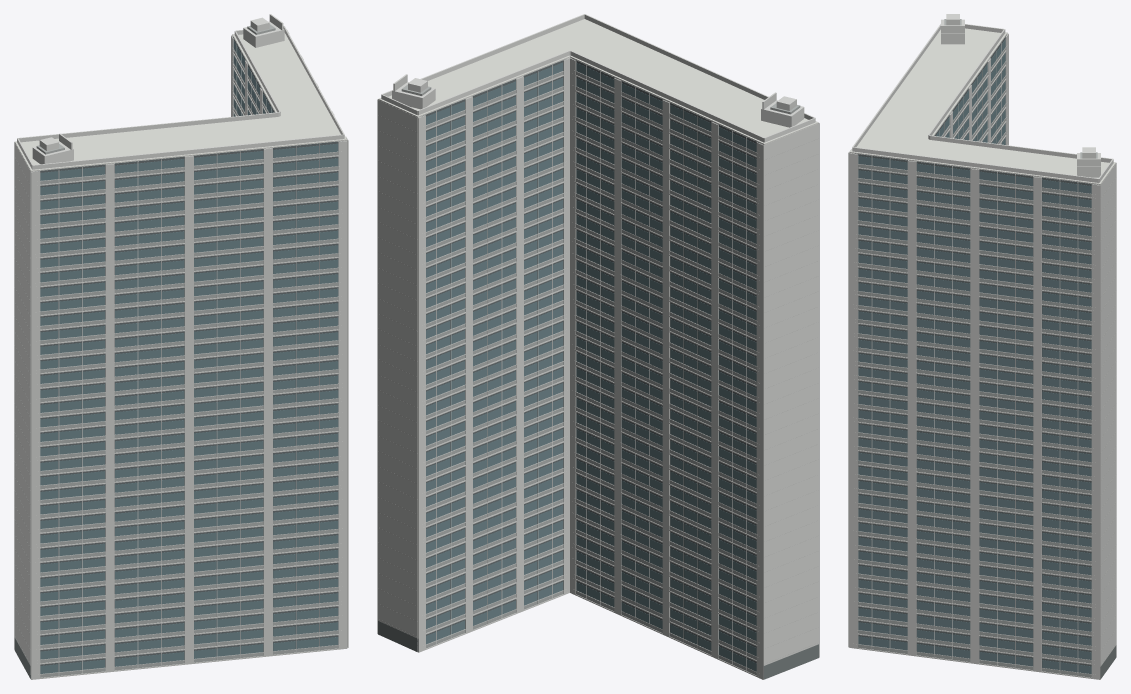
File: bespoke-olympic-park-foreon-306.glb
The picture shows the model from 3 angles, left to right: view 1: azimuth 30°, elevation 25°; view 2: azimuth 150°, elevation 25°; view 3: azimuth 270°, elevation 25°; orthographic projection. The views are drawn at different scales.
Parts seen in each view (by area): view 1: Foreon306_editable_Foreon306_turquoise_balcony_glazing, Foreon306_editable_Foreon306_broad_white_end_walls, Foreon306_editable_Foreon306_light_grey_solid_wall, Foreon306_editable_Foreon306_charcoal_window_bank, Foreon306_editable_Foreon306_broad_white_facade_frames; view 2: Foreon306_editable_Foreon306_broad_white_end_walls, Foreon306_editable_Foreon306_turquoise_balcony_glazing, Foreon306_editable_Foreon306_light_grey_solid_wall, Foreon306_editable_Foreon306_charcoal_window_bank, Foreon306_editable_Foreon306_broad_white_facade_frames, Foreon306_editable_Foreon306_muted_ground_wall; view 3: Foreon306_editable_Foreon306_broad_white_end_walls, Foreon306_editable_Foreon306_turquoise_balcony_glazing, Foreon306_editable_Foreon306_light_grey_solid_wall, Foreon306_editable_Foreon306_charcoal_window_bank, Foreon306_editable_Foreon306_broad_white_facade_frames.
Boxes of the visible parts, box(x1,y1,x2,y2) form: Foreon306_editable_Foreon306_turquoise_balcony_glazing: box(40, 40, 338, 673); Foreon306_editable_Foreon306_broad_white_end_walls: box(14, 14, 348, 679); Foreon306_editable_Foreon306_light_grey_solid_wall: box(15, 24, 338, 677); Foreon306_editable_Foreon306_charcoal_window_bank: box(35, 37, 342, 671); Foreon306_editable_Foreon306_broad_white_facade_frames: box(14, 33, 347, 171); Foreon306_editable_Foreon306_broad_white_end_walls: box(377, 14, 819, 679); Foreon306_editable_Foreon306_turquoise_balcony_glazing: box(426, 62, 756, 671); Foreon306_editable_Foreon306_light_grey_solid_wall: box(378, 71, 817, 675); Foreon306_editable_Foreon306_charcoal_window_bank: box(422, 59, 760, 662); Foreon306_editable_Foreon306_broad_white_facade_frames: box(378, 19, 818, 144); Foreon306_editable_Foreon306_muted_ground_wall: box(378, 600, 818, 679); Foreon306_editable_Foreon306_broad_white_end_walls: box(848, 14, 1116, 679); Foreon306_editable_Foreon306_turquoise_balcony_glazing: box(858, 39, 1091, 673); Foreon306_editable_Foreon306_light_grey_solid_wall: box(858, 19, 1115, 677); Foreon306_editable_Foreon306_charcoal_window_bank: box(855, 35, 1095, 667); Foreon306_editable_Foreon306_broad_white_facade_frames: box(849, 28, 1115, 184).
Bounding box in the file's own units: 69.92 × 104 × 49.28.
